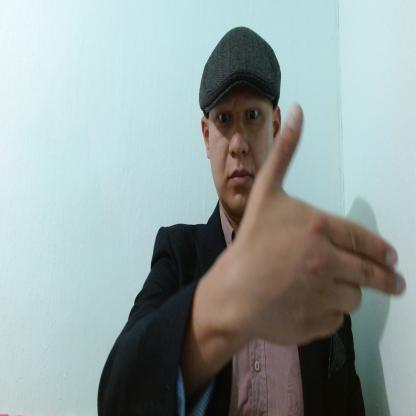H: (243, 103, 406, 346)
